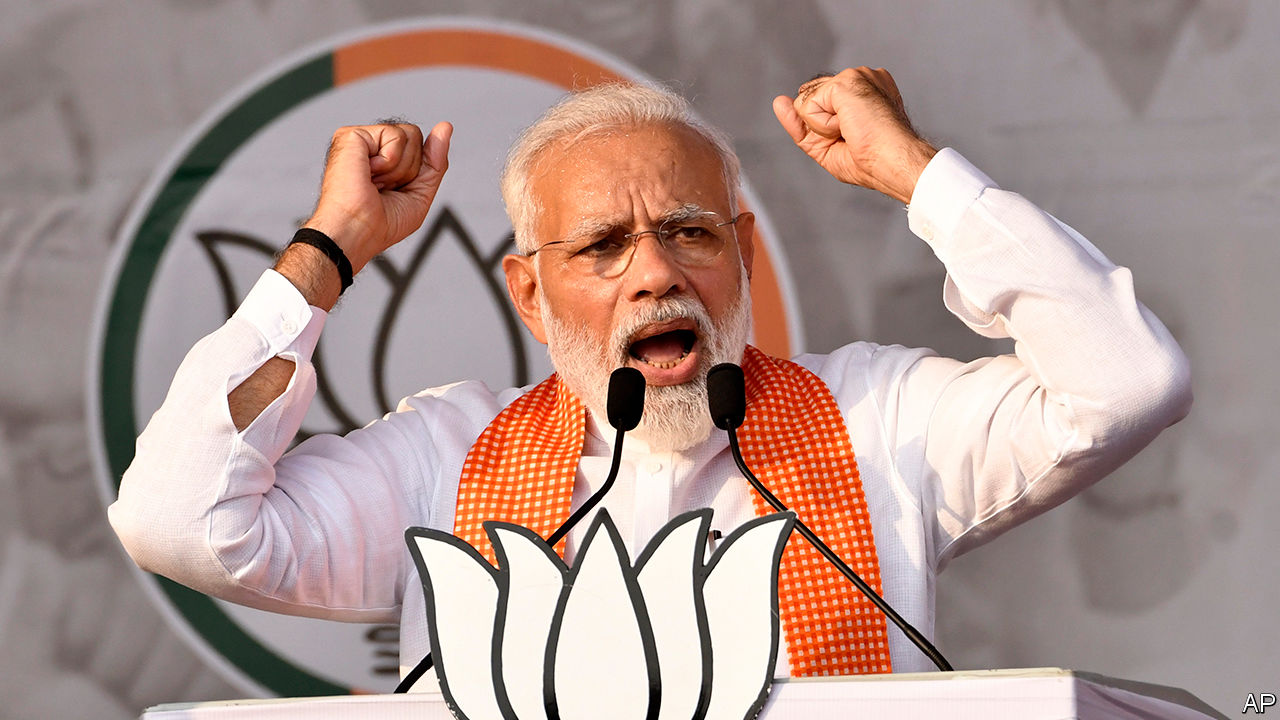modi: (451, 72, 871, 492)
